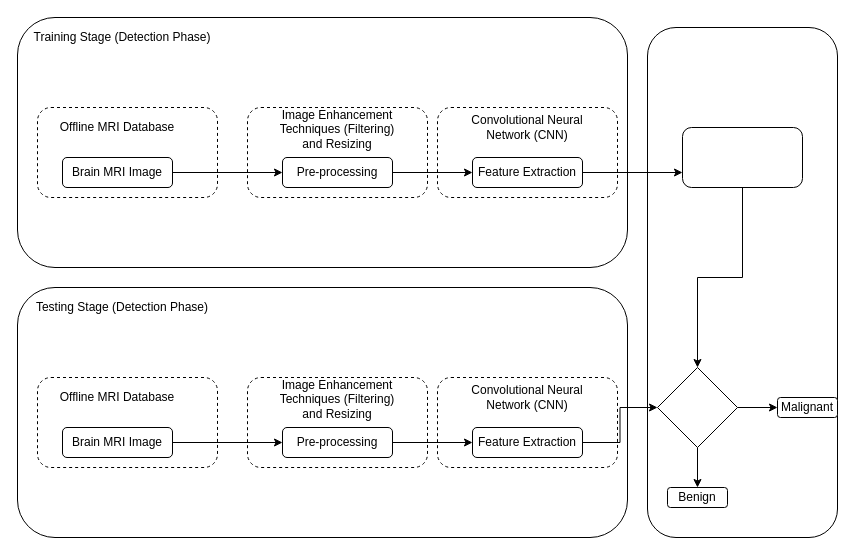
Image size: 855x555. Some labels were removed from this diagram. The shapes that lost their labels are listed below. From the top down, each one's centre as x and y in pixels, then its label:
(x=742, y=157): Training
(x=697, y=407): Classification
